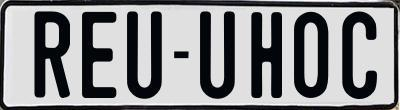0: (292, 12, 327, 103)
C: (342, 10, 382, 100)
E: (81, 12, 119, 104)
H: (251, 11, 285, 97)
R: (33, 8, 70, 97)
U: (199, 10, 235, 103), (125, 10, 162, 99)
